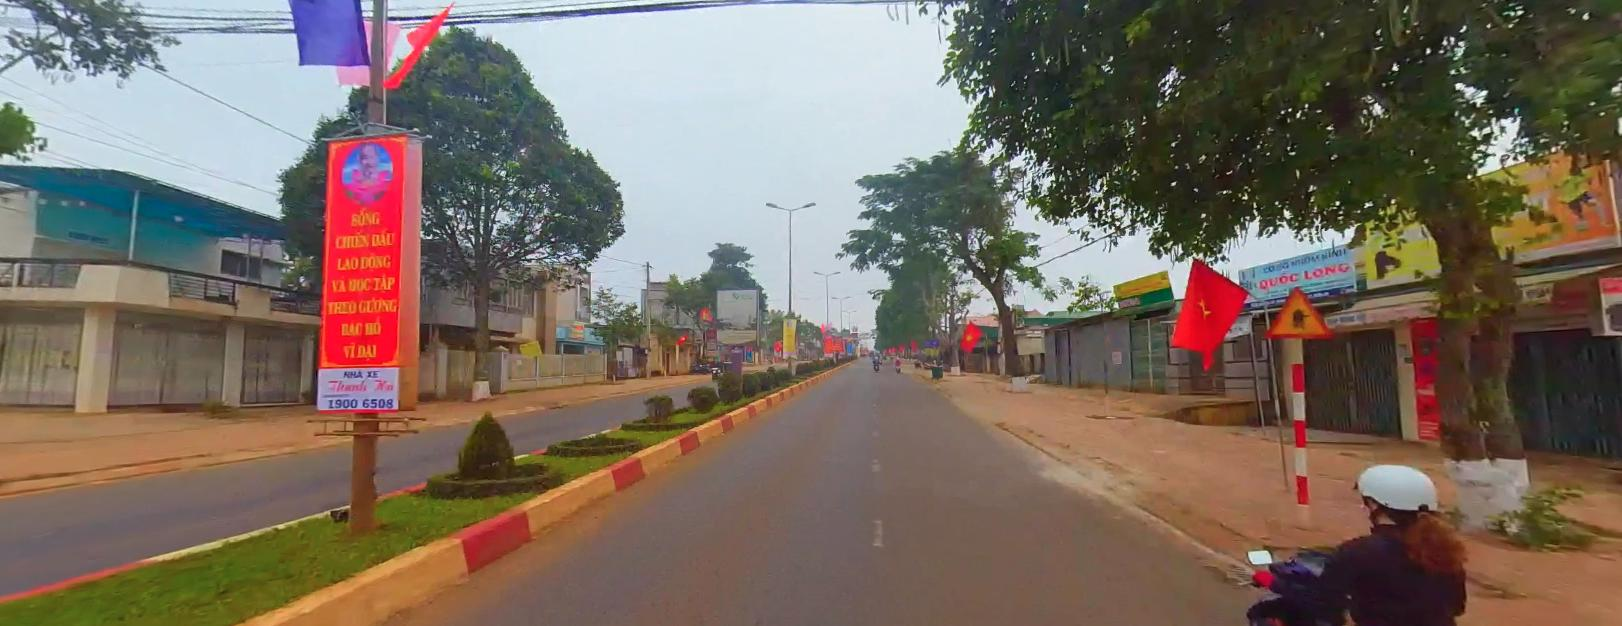Nguy hiem: (1263, 285, 1331, 336)
